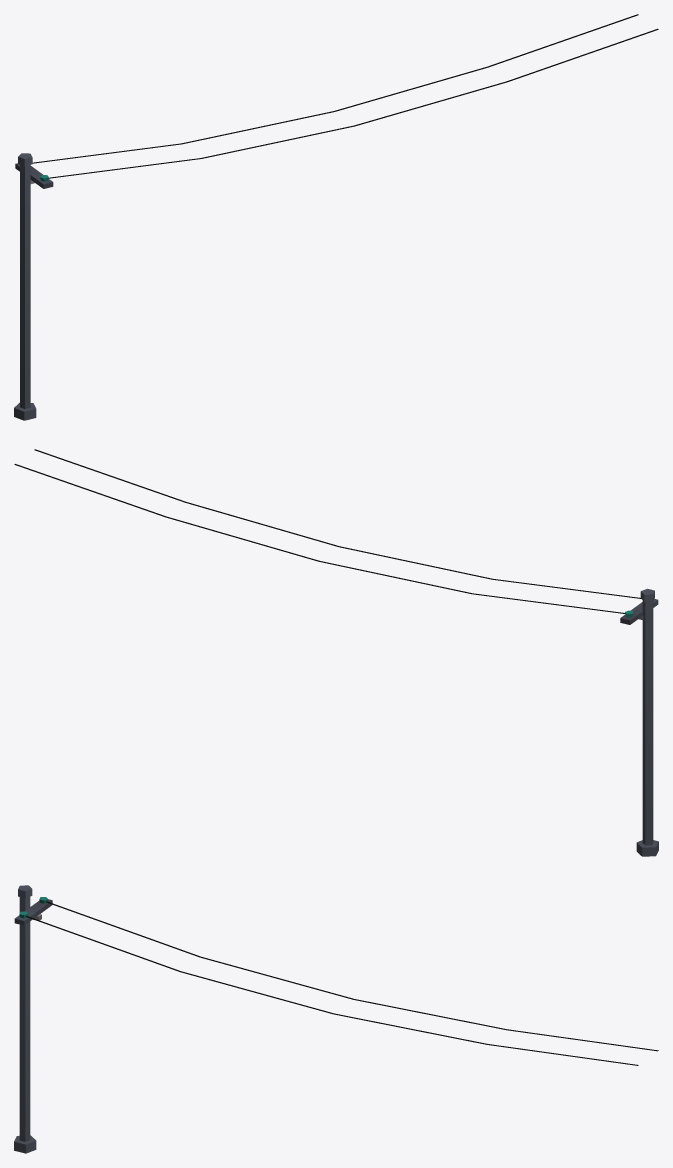
The model's file is SM_Electric_Pole_2.FBX.
The picture shows the model from 3 angles, top to bottom: view 1: azimuth 30°, elevation 25°; view 2: azimuth 150°, elevation 25°; view 3: azimuth 330°, elevation 25°; orthographic projection.
Parts seen in each view (by area): view 1: SM_Electric_Pole_2; view 2: SM_Electric_Pole_2; view 3: SM_Electric_Pole_2.
Part boxes in pixels (box(x1,y1,x2,y2)): SM_Electric_Pole_2: box(14, 14, 658, 420); SM_Electric_Pole_2: box(14, 449, 658, 856); SM_Electric_Pole_2: box(14, 885, 658, 1153).
Size of what is drawn, in the model's own units: 2580 by 200 by 1014.
